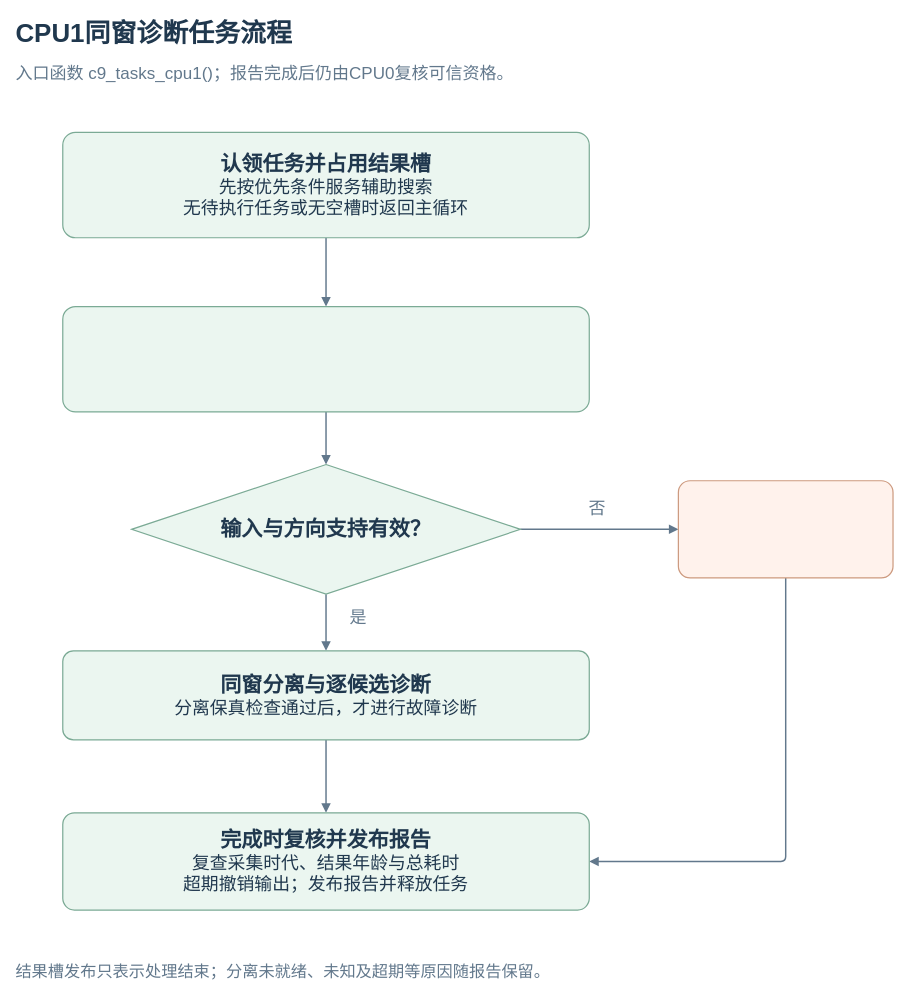
This 919x1000 diagram has some shape labels left out. Here are the shapes that lost their labels. From the top down, the centre of each, then its label:
the point at 326,359: 复制固定时段快照 固定采样终点；核对会话与采集时代 检查排队年龄和历史完整性
the point at 785,529: 输入拒绝报告 本次不提供有效输出 保存拒绝原因
